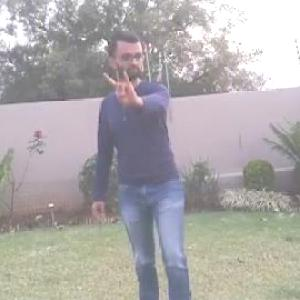takeoff-hand: (98, 66, 146, 110)
